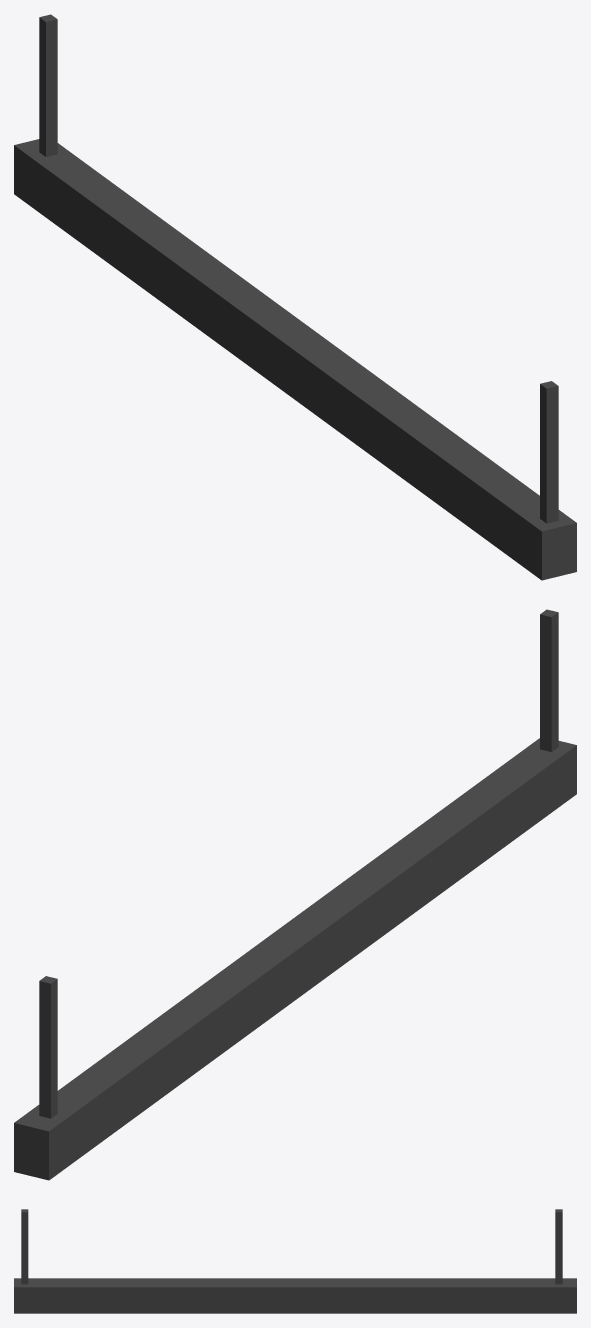
File: House-1.obj
3 renders of one model, top to bottom at view 1: azimuth 30°, elevation 25°; view 2: azimuth 150°, elevation 25°; view 3: azimuth 270°, elevation 25°, orthographic. The views are drawn at different scales.
Bounding box in the file's own units: 0.3 × 1.5 × 7.8.
Materials: 1 (1 with a texture image).
